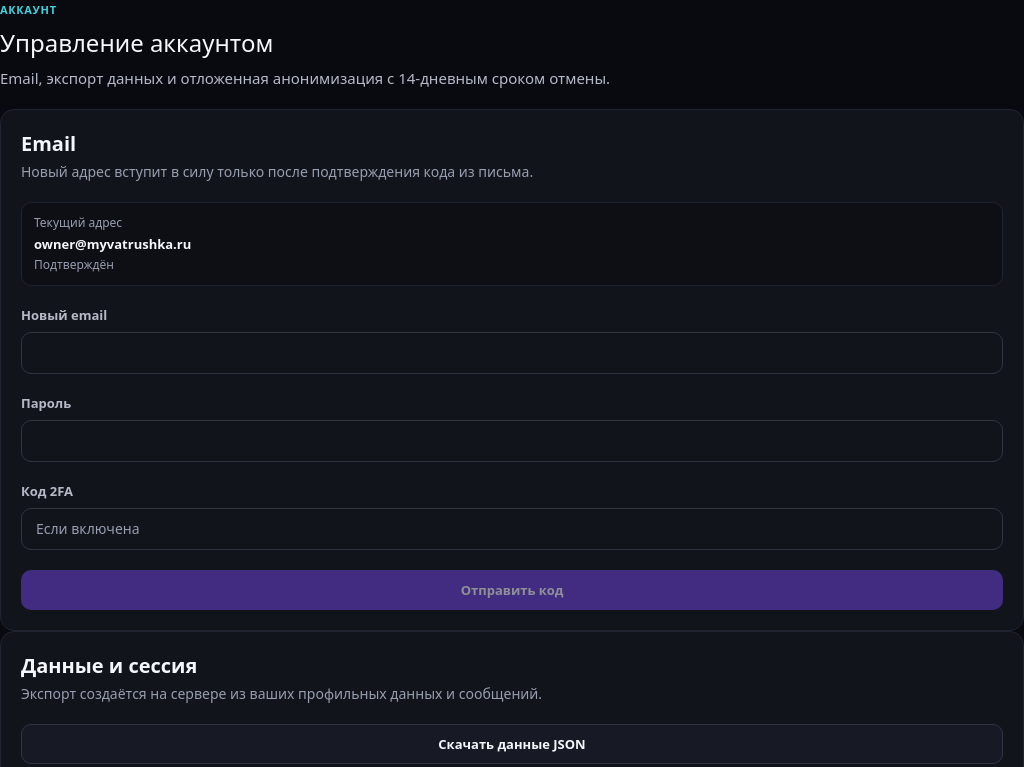
Test: routed user settings pages › requires reauthentication before scheduling account deletion
In the password field labelled "Пароль": (512, 441) x1=34 y1=421 x2=990 y2=461, type "correct-password-1"
(page scrolled)
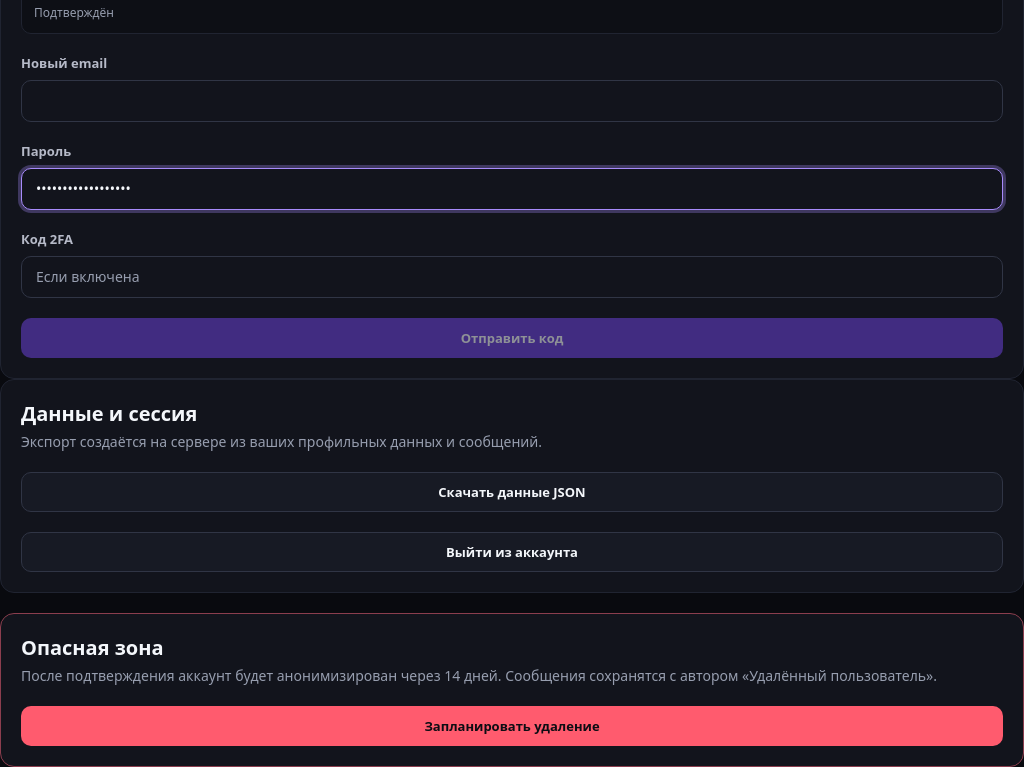
Click the button "Запланировать удаление": (512, 726) x1=21 y1=706 x2=1003 y2=746
(page scrolled)
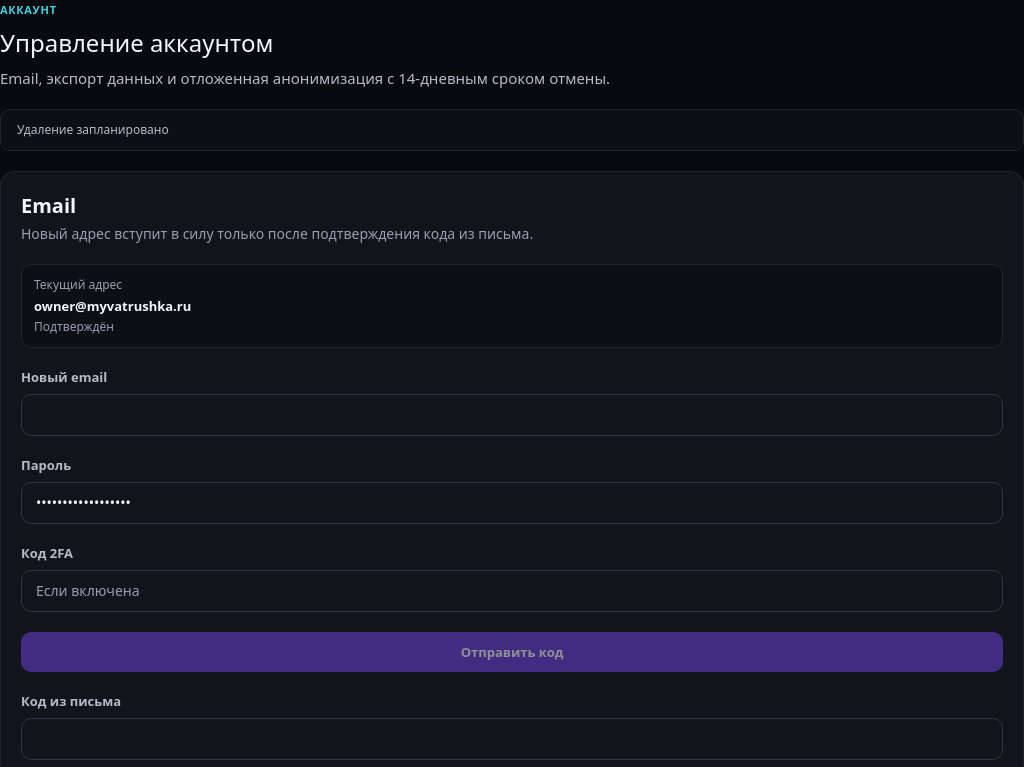
Result: the text "Удаление запланировано" is shown at x1=0 y1=109 x2=1023 y2=151
